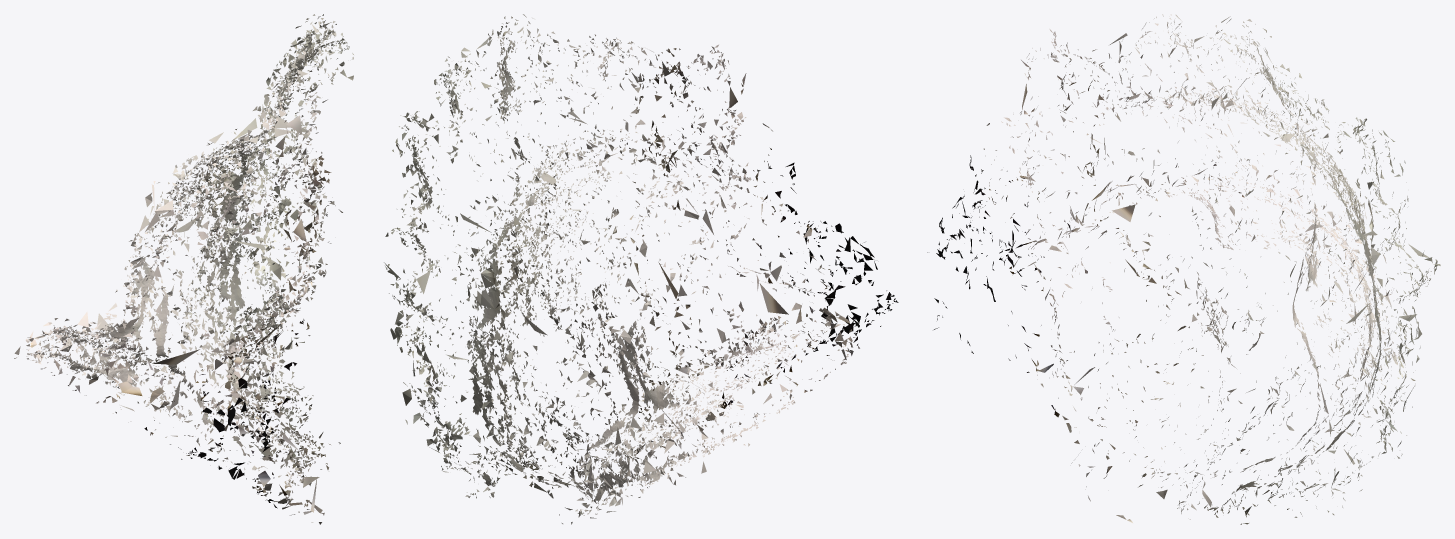
The picture shows the model from 3 angles, left to right: view 1: azimuth 30°, elevation 25°; view 2: azimuth 150°, elevation 25°; view 3: azimuth 270°, elevation 25°; orthographic projection. The views are drawn at different scales.
Parts seen in each view (by area): view 1: test4; view 2: test4; view 3: test4.
Boxes of the visible parts, x1=… form: test4: x1=14, y1=14, x2=353, y2=524; test4: x1=384, y1=14, x2=898, y2=524; test4: x1=927, y1=14, x2=1440, y2=524.
Size of the model in its own units: 1.17 by 1.46 by 1.27.
1 material, 1 textured.
